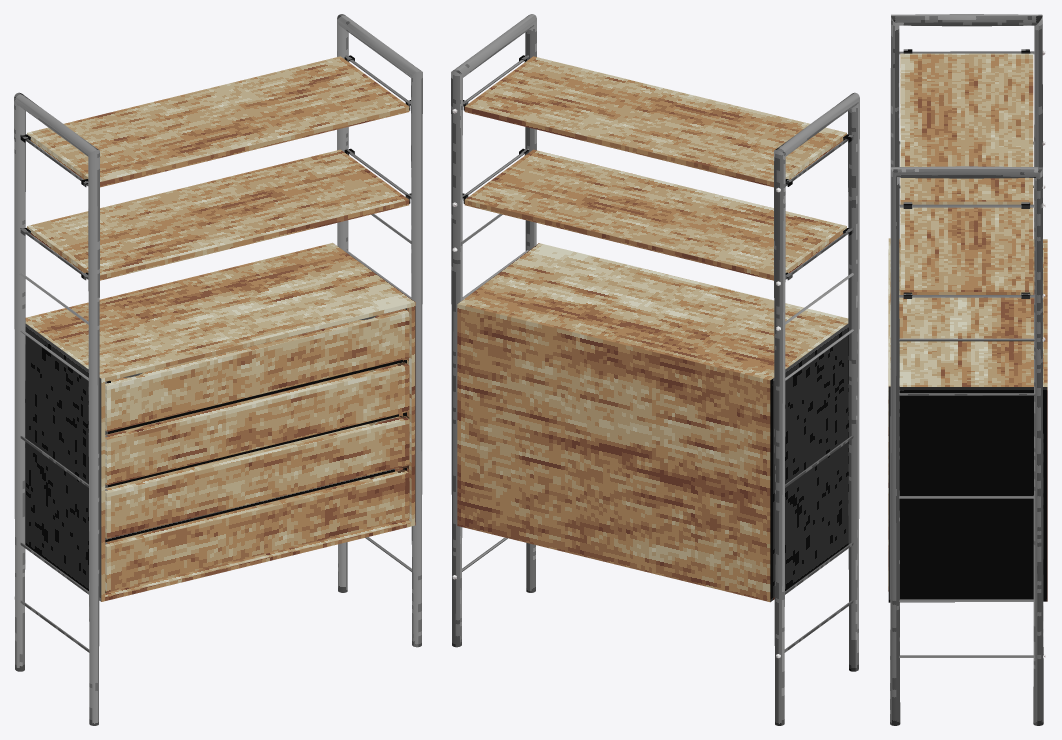
The model's file is drawer_cabinet.glb.
3 views of the same model, side by side, from view 1: azimuth 30°, elevation 25°; view 2: azimuth 150°, elevation 25°; view 3: azimuth 270°, elevation 25° (orthographic). The views are drawn at different scales.
Visible parts, largest first — view 1: mesh; view 2: mesh; view 3: mesh.
Boxes of the visible parts, bbox=[...] form: mesh: bbox=[14, 14, 422, 725]; mesh: bbox=[451, 14, 859, 725]; mesh: bbox=[888, 14, 1047, 725].
Bounding box in the file's own units: 14.56 × 24 × 6.23.
1 material, 1 textured.
